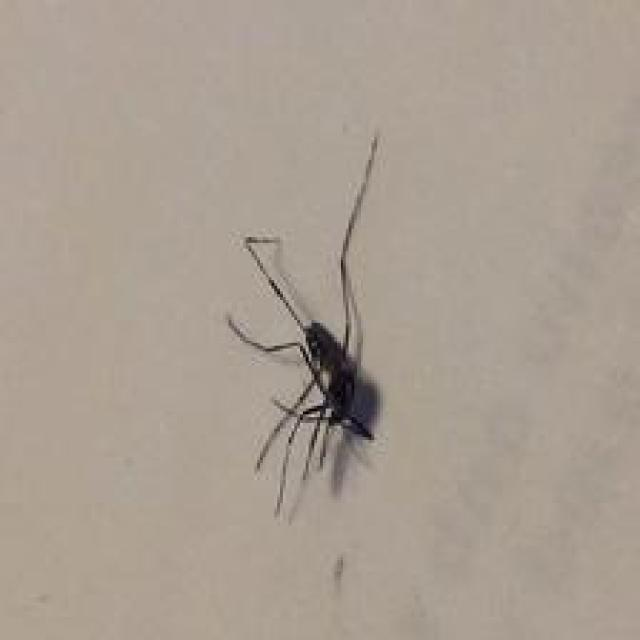Aedes albopictus: (224, 131, 384, 523)
